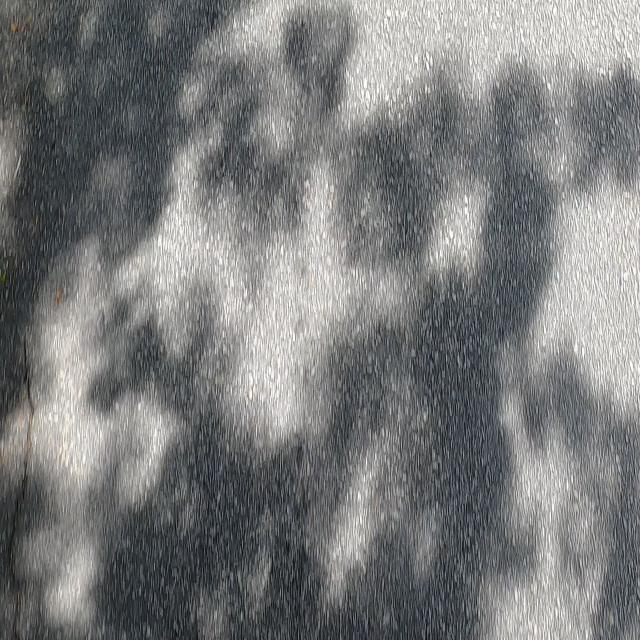Retak-Memanjang: (4, 326, 37, 637)
